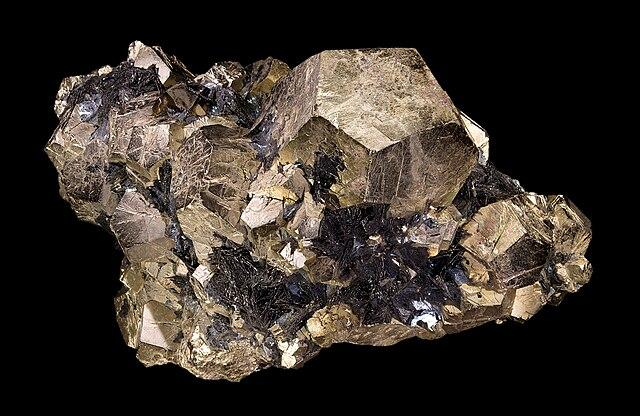pyrite: (49, 34, 602, 384)
